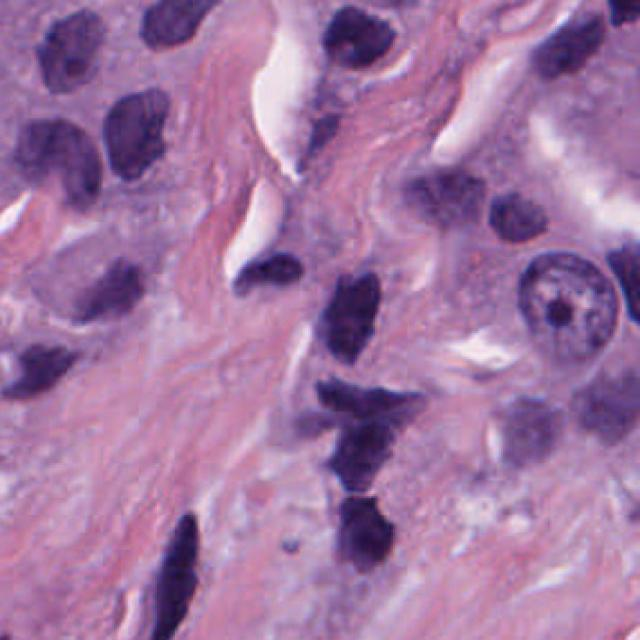fibroblast: (568, 364, 640, 439), (402, 163, 483, 229), (496, 390, 559, 461)
tumor: (512, 239, 629, 366), (297, 373, 413, 480), (2, 108, 105, 205), (94, 83, 169, 193), (310, 265, 382, 359), (31, 2, 103, 90), (525, 2, 606, 80), (67, 251, 142, 321), (317, 0, 393, 69), (330, 487, 391, 571), (2, 336, 69, 394), (233, 238, 303, 286)
unlabeled: (132, 501, 200, 640), (297, 73, 343, 158), (483, 186, 543, 238)
